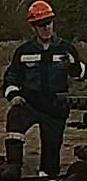gloves: (51, 55, 77, 71), (7, 94, 26, 106)
helmet: (25, 0, 55, 25)
vest: (16, 40, 71, 117)
